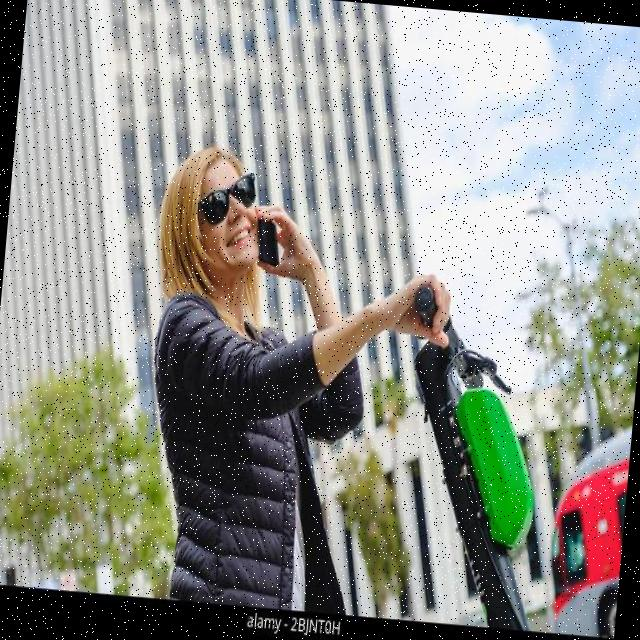Using mobile: (136, 126, 402, 419)
